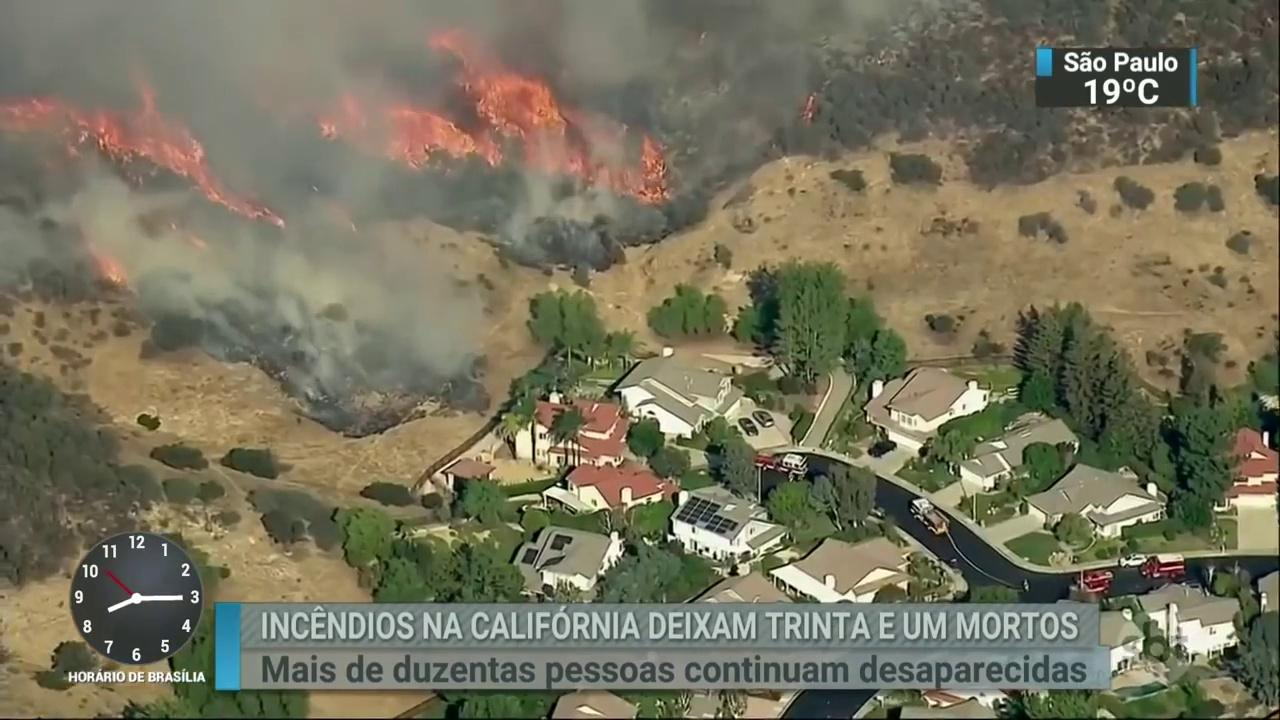Fire: (321, 33, 665, 204), (9, 99, 290, 228), (96, 260, 123, 282)
